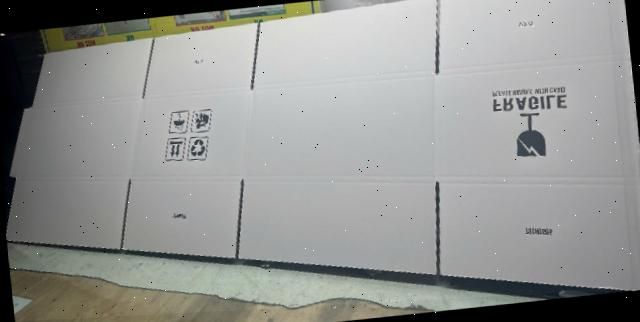box: (6, 0, 640, 289)
